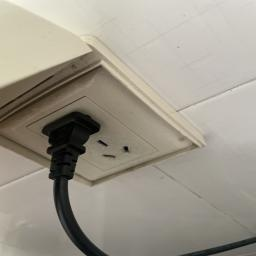outlet: (0, 32, 223, 182)
